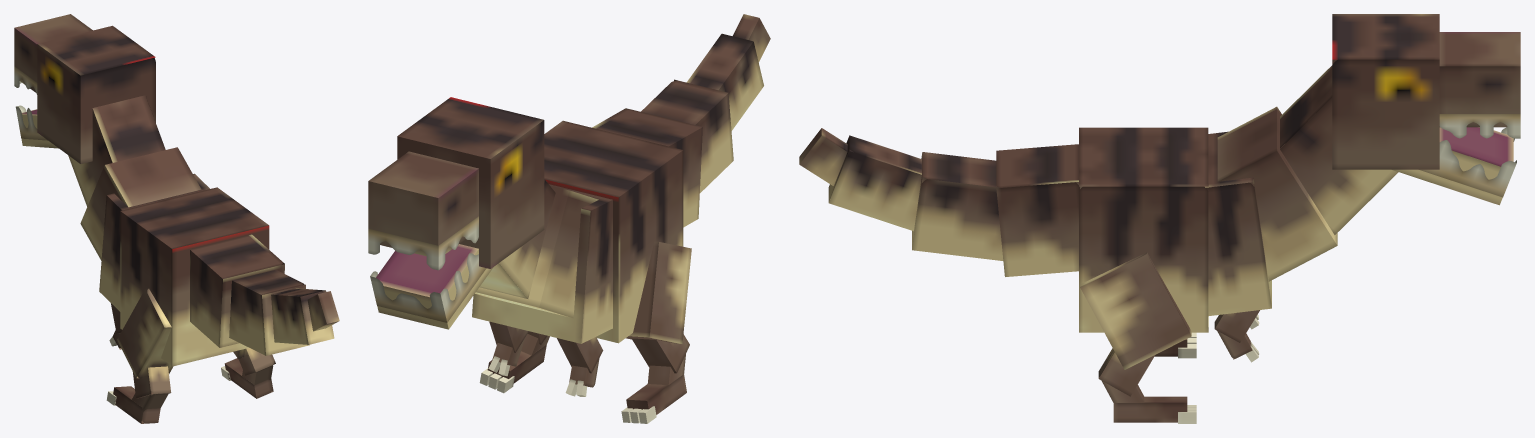
File: Dino_1.fbx
The picture shows the model from 3 angles, left to right: view 1: azimuth 30°, elevation 25°; view 2: azimuth 150°, elevation 25°; view 3: azimuth 270°, elevation 25°; orthographic projection. The views are drawn at different scales.
Visible parts, largest first — view 1: _gltfNode_0, _gltfNode_21, _gltfNode_5, _gltfNode_17, _gltfNode_19, _gltfNode_7, _gltfNode_58, _gltfNode_9, _gltfNode_2, _gltfNode_23, _gltfNode_60, _gltfNode_11 (+7 smaller); view 2: _gltfNode_0, _gltfNode_21, _gltfNode_23, _gltfNode_2, _gltfNode_17, _gltfNode_7, _gltfNode_58, _gltfNode_29, _gltfNode_5, _gltfNode_9, _gltfNode_19, _gltfNode_27 (+10 smaller); view 3: _gltfNode_0, _gltfNode_21, _gltfNode_5, _gltfNode_17, _gltfNode_7, _gltfNode_2, _gltfNode_19, _gltfNode_34, _gltfNode_23, _gltfNode_9, _gltfNode_29, _gltfNode_27 (+5 smaller).
Part boxes in pixels (x1,y1,x2,y2): _gltfNode_0: (120, 187, 269, 366); _gltfNode_21: (37, 25, 155, 163); _gltfNode_5: (190, 234, 284, 347); _gltfNode_17: (80, 147, 201, 260); _gltfNode_19: (68, 95, 165, 206); _gltfNode_7: (229, 270, 309, 355); _gltfNode_58: (117, 288, 173, 378); _gltfNode_9: (271, 288, 334, 344); _gltfNode_2: (99, 173, 209, 311); _gltfNode_23: (14, 14, 92, 92); _gltfNode_60: (132, 366, 171, 398); _gltfNode_11: (307, 291, 339, 331); _gltfNode_0: (544, 120, 683, 343); _gltfNode_21: (397, 97, 544, 268); _gltfNode_23: (368, 151, 478, 256); _gltfNode_2: (472, 184, 612, 343); _gltfNode_17: (475, 185, 598, 318); _gltfNode_7: (641, 79, 733, 193); _gltfNode_58: (626, 241, 691, 343); _gltfNode_29: (376, 244, 493, 329); _gltfNode_5: (592, 108, 702, 227); _gltfNode_9: (686, 33, 763, 130); _gltfNode_19: (479, 179, 555, 298); _gltfNode_27: (370, 253, 486, 322); _gltfNode_0: (1079, 127, 1208, 332); _gltfNode_21: (1332, 14, 1439, 169); _gltfNode_5: (996, 144, 1082, 276); _gltfNode_17: (1217, 106, 1337, 281); _gltfNode_7: (912, 152, 1003, 260); _gltfNode_2: (1205, 131, 1271, 316); _gltfNode_19: (1280, 65, 1398, 234); _gltfNode_34: (1080, 252, 1191, 369); _gltfNode_23: (1439, 32, 1520, 127); _gltfNode_9: (828, 135, 927, 231); _gltfNode_29: (1392, 127, 1513, 205); _gltfNode_27: (1419, 127, 1516, 197).
Bounding box in the file's own units: 321 × 639 × 1194.
